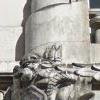Statue: (11, 42, 86, 100)
